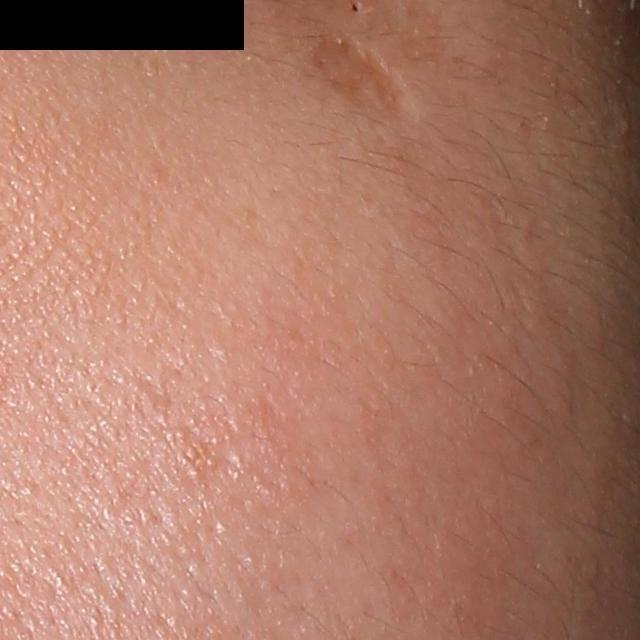atrophic_scar: (305, 23, 412, 120)
other: (310, 36, 418, 119)
